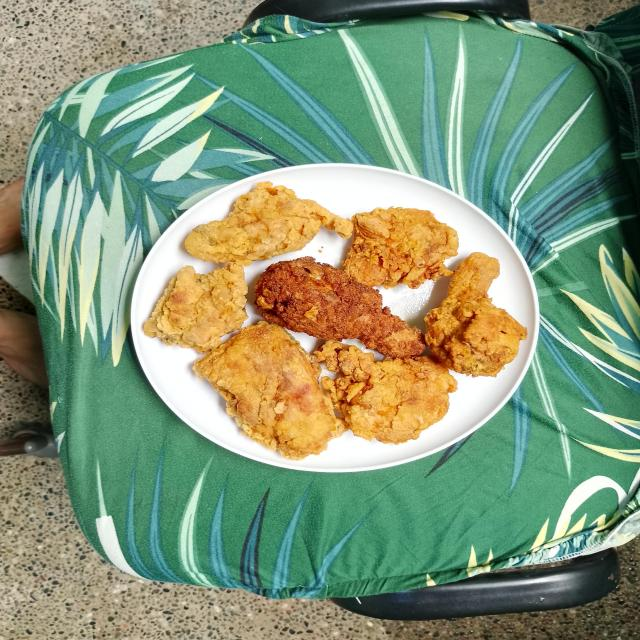Chicken -Fried Chicken-: (118, 164, 506, 465)
